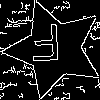F: (29, 24, 63, 71)
